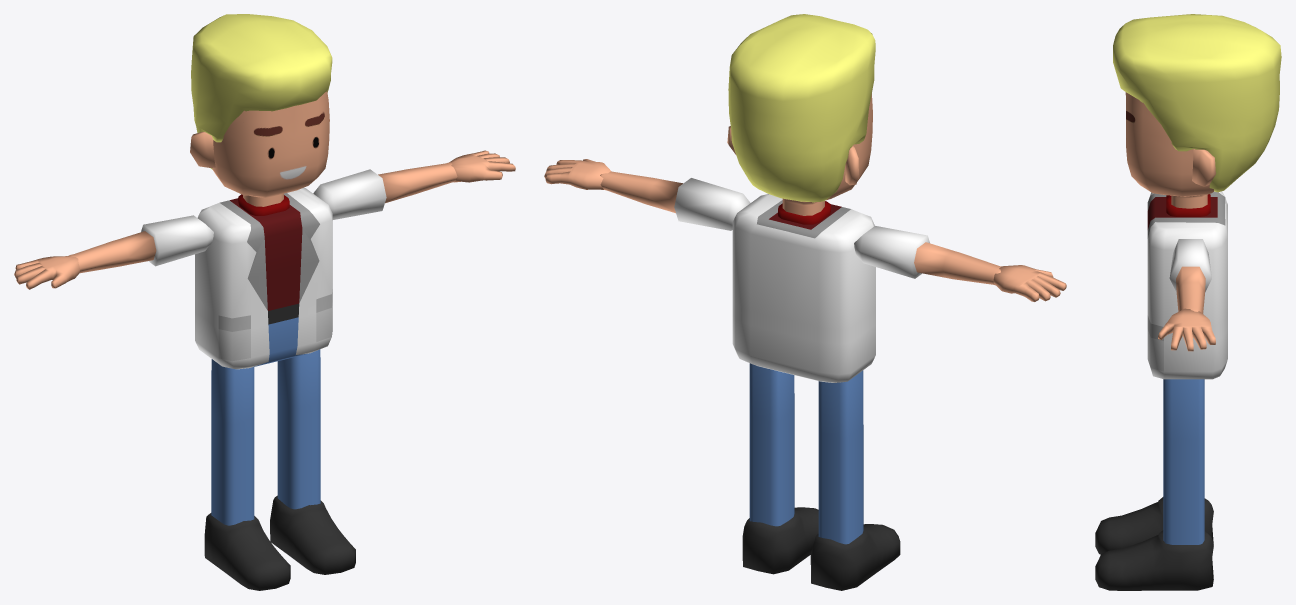
The model's file is NPC_White02_BlondeHair03.gltf.
3 renders of one model, left to right at view 1: azimuth 30°, elevation 25°; view 2: azimuth 150°, elevation 25°; view 3: azimuth 270°, elevation 25°, orthographic. The views are drawn at different scales.
Parts seen in each view (by area): view 1: NPC_Corpo_White2_BlondeHair.003; view 2: NPC_Corpo_White2_BlondeHair.003; view 3: NPC_Corpo_White2_BlondeHair.003.
Part boxes in pixels (x1,y1,x2,y2): NPC_Corpo_White2_BlondeHair.003: [14, 14, 515, 590]; NPC_Corpo_White2_BlondeHair.003: [544, 14, 1066, 590]; NPC_Corpo_White2_BlondeHair.003: [1095, 14, 1281, 590].
Size of the model in its own units: 2.31 by 2.31 by 0.7282.
Materials: 1 (1 with a texture image).
